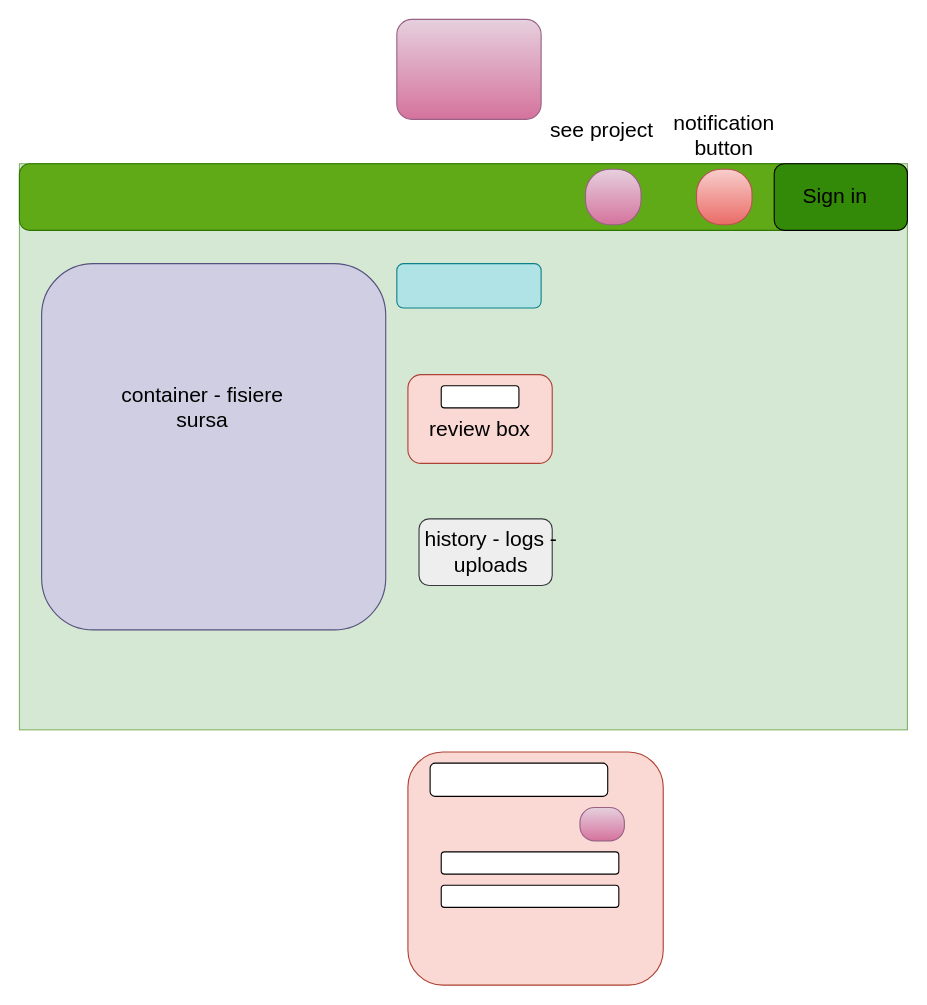
Image size: 927x1005. Some labels were removed from this diagram. The shapes that lost their labels are listed below. From the top down, each one's centre as x and y in pixels, then its label:
the point at 468,68: lista + buton(select)
the point at 468,285: to-do app
